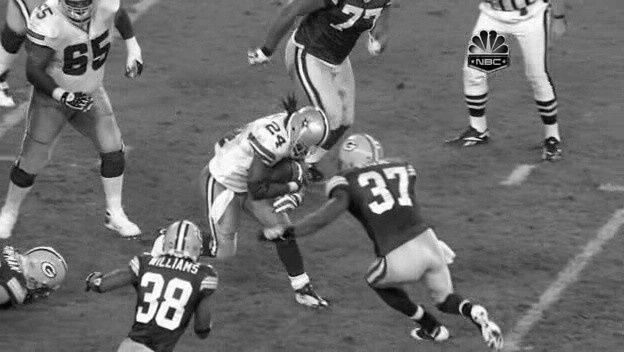person: (290, 113, 324, 156), (289, 113, 323, 156), (291, 113, 325, 156), (290, 112, 324, 155), (290, 114, 324, 157)
target_negative: (84, 52, 183, 269), (368, 162, 417, 289), (374, 245, 473, 274), (517, 247, 585, 261), (282, 319, 308, 341), (215, 105, 219, 205)
